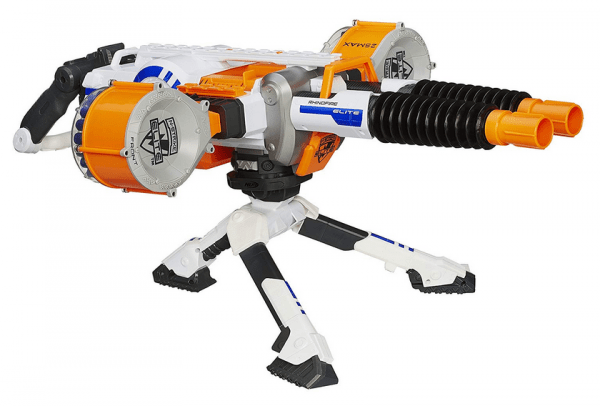Arma Falsa: (15, 14, 588, 390)
